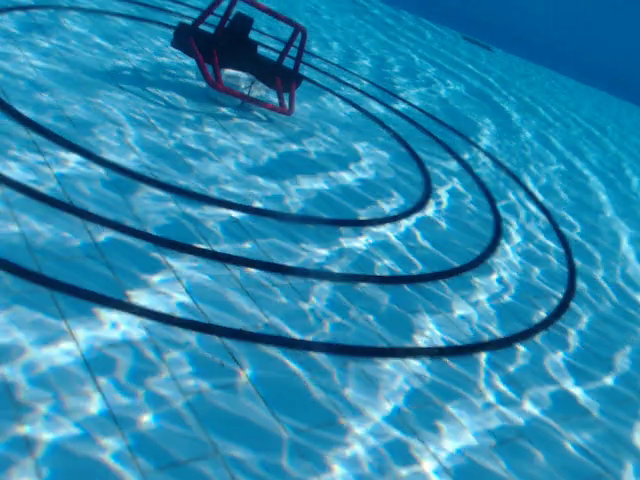submarine: (168, 1, 309, 119)
